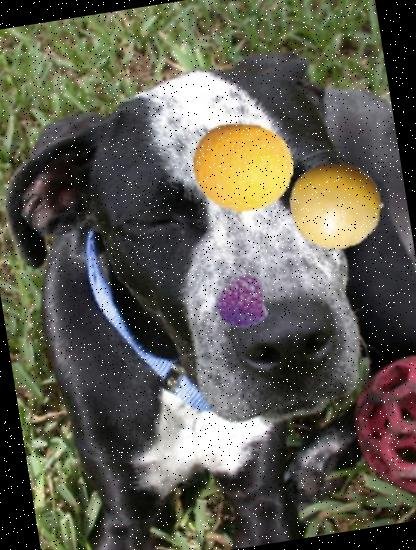Cantaloupe: (186, 111, 302, 228)
Grapefruit: (284, 152, 393, 261)
Raspberry: (212, 272, 274, 333)
